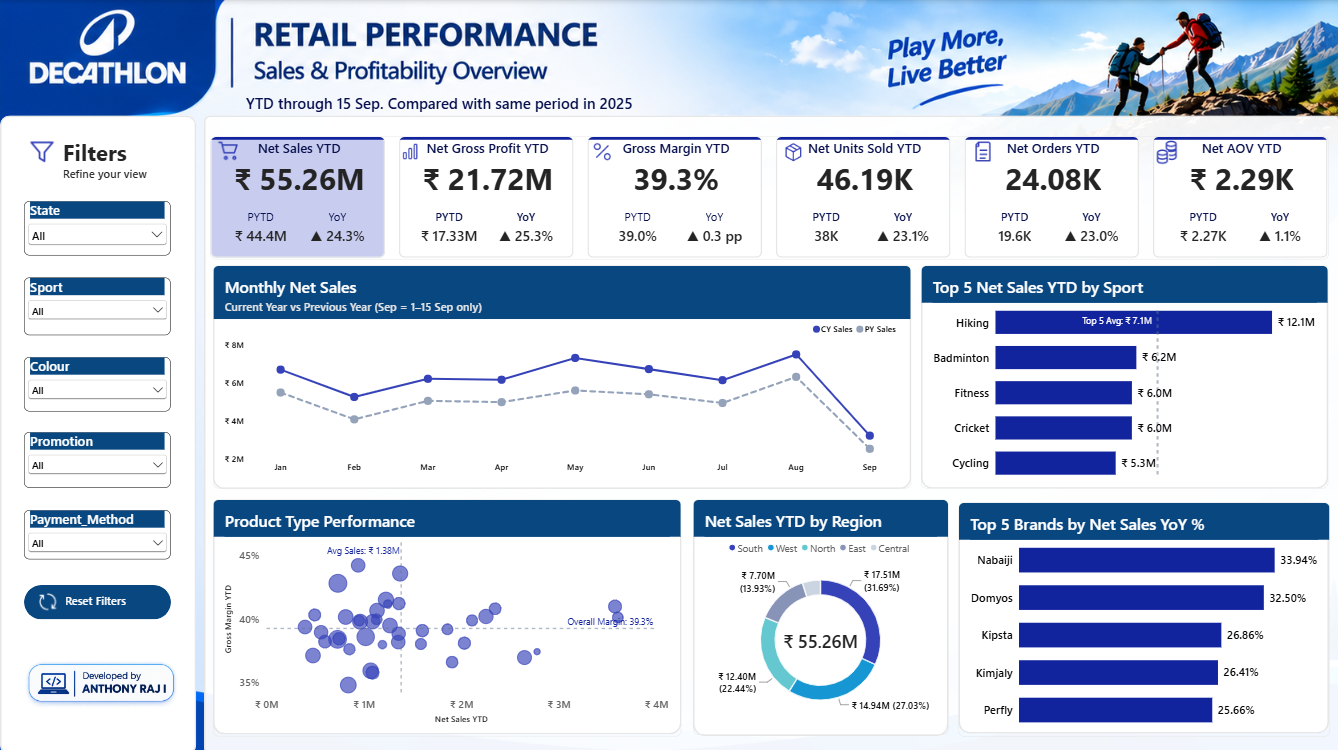

What the dashboard file says about the page in this screenshot:
{"tool":"powerbi","page":{"name":"Page 1","canvas":[1920,1080],"ordinal":0},"visuals":[{"type":"shape","box":[0,165.4,281,915.3],"z":0},{"type":"shape","box":[292.8,165.9,1627.4,914.9],"z":1000},{"type":"textbox","box":[351.3,134.2,688,31.7],"z":2000},{"type":"cardVisual","fields":{"Data":["#Measures.Net Sales YTD","#Measures.Net Gross Profit YTD","KPI Measures.Gross Margin YTD","KPI Measures.Net Units Sold YTD","KPI Measures.Net Orders YTD","KPI Measures.Net AOV YTD"]},"box":[300.1,195.2,1603,175.7],"z":3000},{"type":"image","box":[305,195.2,46.4,43.9],"z":4000},{"type":"image","box":[570.9,195.2,34.2,43.9],"z":5000},{"type":"image","box":[844.2,195.2,36.6,43.9],"z":6000},{"type":"image","box":[1119.9,195.2,34.2,43.9],"z":7000},{"type":"image","box":[1388.3,195.2,41.5,43.9],"z":8000},{"type":"image","box":[1649.3,195.2,41.5,43.9],"z":9000},{"type":"shape","box":[305,380.6,1000,320],"z":10000},{"type":"lineChart","title":"Monthly Net Sales","fields":{"Category":["Date Table.Month Name"],"Y":["KPI Measures.CY Sales","KPI Measures.PY Sales"]},"box":[305,380.6,1000.3,319.6],"z":11000},{"type":"shape","box":[1319.9,380.6,583.1,319.6],"z":12000},{"type":"clusteredBarChart","title":"Top 5 Net Sales YTD by Sport","fields":{"Category":["products.Sport"],"Y":["KPI Measures.Net Sales YTD"]},"box":[1319.9,380.6,583.1,319.6],"z":13000},{"type":"shape","box":[305,717.3,670.9,334.3],"z":14000},{"type":"scatterChart","title":"Product Type Performance","fields":{"Category":["products.Product_Type"],"Size":["KPI Measures.Net Orders YTD"],"X":["KPI Measures.Net Sales YTD"],"Y":["KPI Measures.Gross Margin YTD"]},"box":[305.1,715.5,670.4,339.5],"z":15000},{"type":"shape","box":[993,717.3,366,336.7],"z":16000},{"type":"donutChart","title":"Net Sales YTD by Region","fields":{"Category":["store.Region"],"Y":["KPI Measures.Net Sales YTD"]},"box":[993,714.9,366,336.7],"z":17000},{"type":"shape","box":[1372.9,719.8,530.7,330.9],"z":18000},{"type":"textbox","box":[90.2,195.5,165.4,92.4],"z":20000},{"type":"image","box":[36.5,195.5,47.3,45.1],"z":21000},{"type":"slicer","fields":{"Values":["store.State"]},"box":[33.4,287.3,210.1,77.9],"z":22000},{"type":"slicer","fields":{"Values":["products.Sport"]},"box":[33.4,396.5,210.1,82.6],"z":23000},{"type":"slicer","fields":{"Values":["products.Colour"]},"box":[33.4,510.4,210.1,77.9],"z":24000},{"type":"slicer","fields":{"Values":["sales.Promotion"]},"box":[33.4,619.6,210.1,80.3],"z":25000},{"type":"slicer","fields":{"Values":["sales.Payment_Method"]},"box":[33.4,731.1,210.1,70.8],"z":26000},{"type":"actionButton","box":[34.4,837.9,210.6,49.4],"z":27000},{"type":"image","box":[34.4,930.3,221.3,98.8],"z":28001},{"type":"clusteredBarChart","title":"Top 5 Brands by Net Sales YoY %","fields":{"Category":["products.Brand_Label"],"Y":["KPI Measures.Sales Growth %"]},"box":[1372.3,719.4,532.2,335.1],"z":28002}]}

Visuals, with their boxes in screenshot pixels (x1, y1, x2, y2), scaled from the page's 1920x1080 canvas onto the 1338x750 screenshot:
shape: detection(0, 115, 196, 749)
shape: detection(204, 115, 1337, 749)
textbox: detection(245, 93, 724, 115)
cardVisual - #Measures.Net Sales YTD x #Measures.Net Gross Profit YTD: detection(209, 136, 1326, 258)
image: detection(213, 136, 245, 166)
image: detection(398, 136, 422, 166)
image: detection(588, 136, 614, 166)
image: detection(780, 136, 804, 166)
image: detection(967, 136, 996, 166)
image: detection(1149, 136, 1178, 166)
shape: detection(213, 264, 909, 487)
"Monthly Net Sales" lineChart: detection(213, 264, 910, 486)
shape: detection(920, 264, 1326, 486)
"Top 5 Net Sales YTD by Sport" clusteredBarChart: detection(920, 264, 1326, 486)
shape: detection(213, 498, 680, 730)
"Product Type Performance" scatterChart: detection(213, 497, 680, 733)
shape: detection(692, 498, 947, 732)
"Net Sales YTD by Region" donutChart: detection(692, 496, 947, 730)
shape: detection(957, 500, 1327, 730)
textbox: detection(63, 136, 178, 200)
image: detection(25, 136, 58, 167)
slicer - store.State: detection(23, 200, 170, 254)
slicer - products.Sport: detection(23, 275, 170, 333)
slicer - products.Colour: detection(23, 354, 170, 409)
slicer - sales.Promotion: detection(23, 430, 170, 486)
slicer - sales.Payment_Method: detection(23, 508, 170, 557)
actionButton: detection(24, 582, 171, 616)
image: detection(24, 646, 178, 715)
"Top 5 Brands by Net Sales YoY %" clusteredBarChart: detection(956, 500, 1327, 732)
